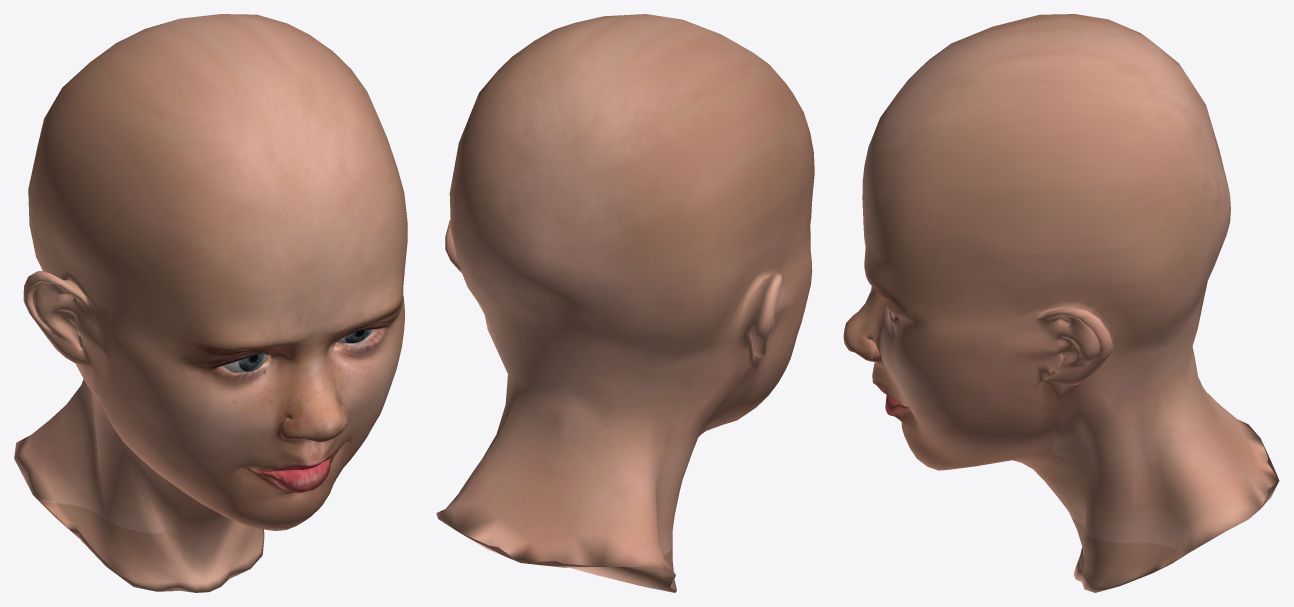
Rendered from Good.fbx.
3 renders of one model, left to right at view 1: azimuth 30°, elevation 25°; view 2: azimuth 150°, elevation 25°; view 3: azimuth 270°, elevation 25°, orthographic. The views are drawn at different scales.
Parts seen in each view (by area): view 1: Anakin, Eye01.Eye; view 2: Anakin; view 3: Anakin.
Part boxes in pixels (x1,y1,x2,y2): Anakin: (14, 14, 407, 592); Eye01.Eye: (223, 353, 267, 372); Anakin: (436, 14, 814, 592); Anakin: (843, 14, 1279, 592).
Bounding box in the file's own units: 470 × 741 × 543.
Materials: 3 (3 with a texture image).
